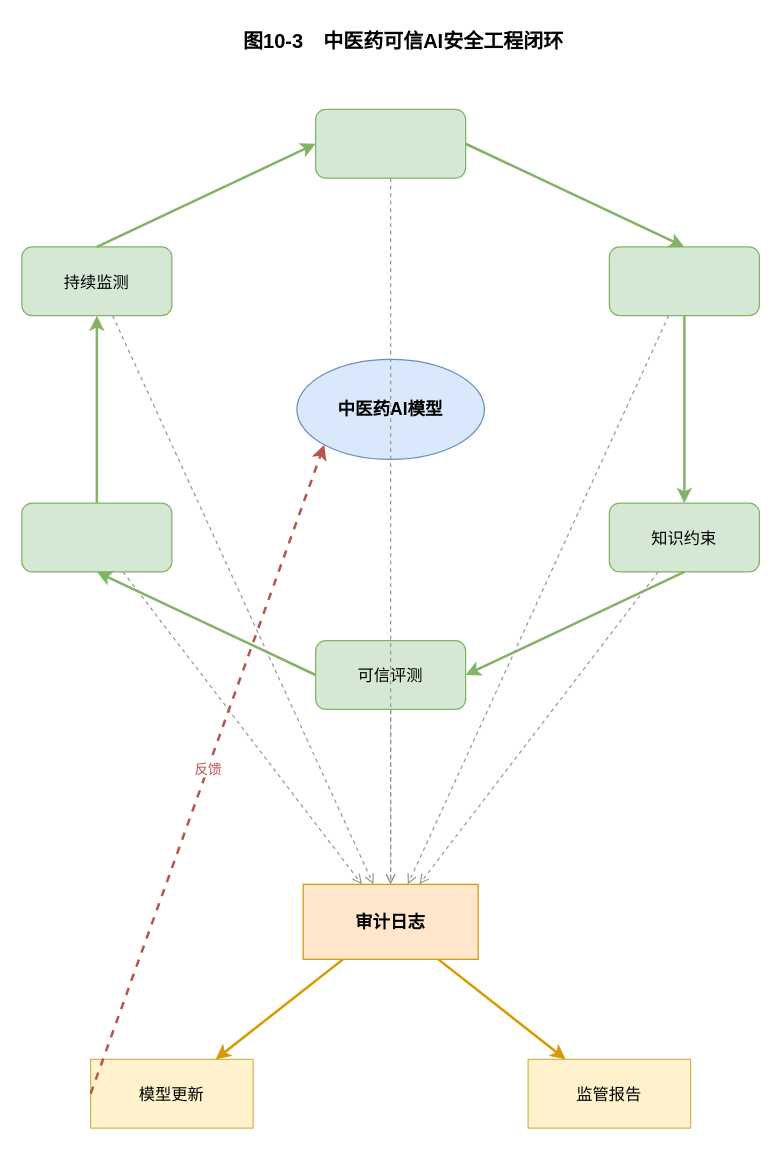
This 781x1150 diagram has some shape labels left out. The shapes that lost their labels are listed below. From the top down, each one's centre as x and y in pixels, then its label:
At pixel 390 143: "数据治理".
At pixel 683 281: "领域适配".
At pixel 96 537: "临床部署".
